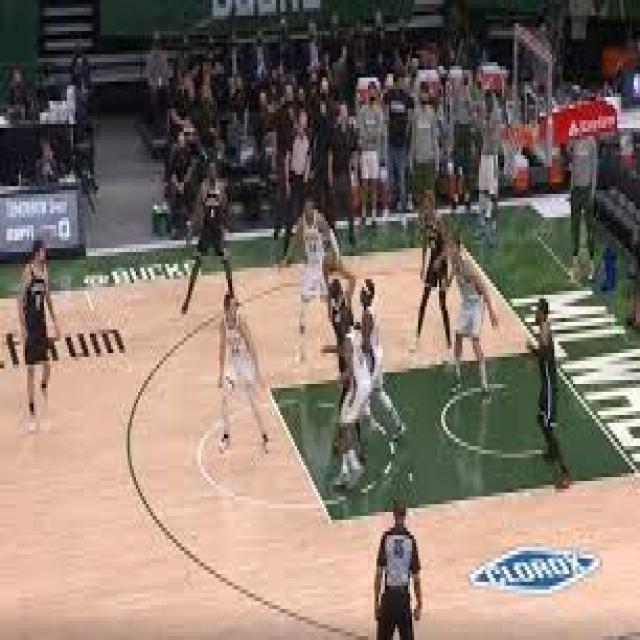rim: (324, 248, 337, 276)
